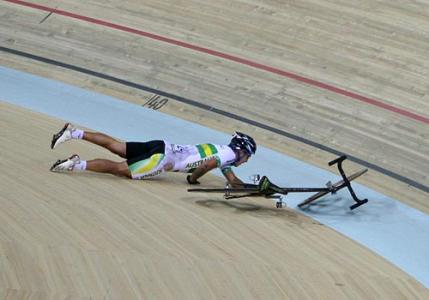fall: (44, 110, 279, 193)
